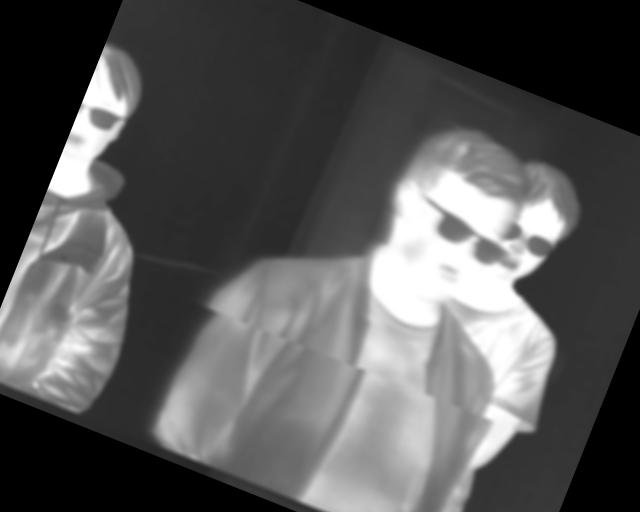face: (361, 107, 539, 318), (483, 153, 596, 297), (61, 40, 156, 176)
